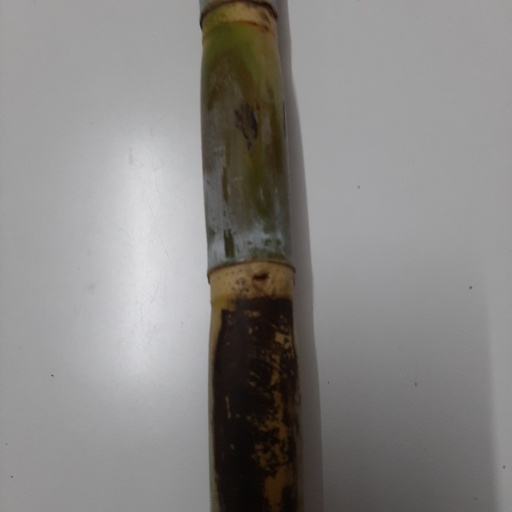Damage_Bud: (251, 267, 270, 293)
